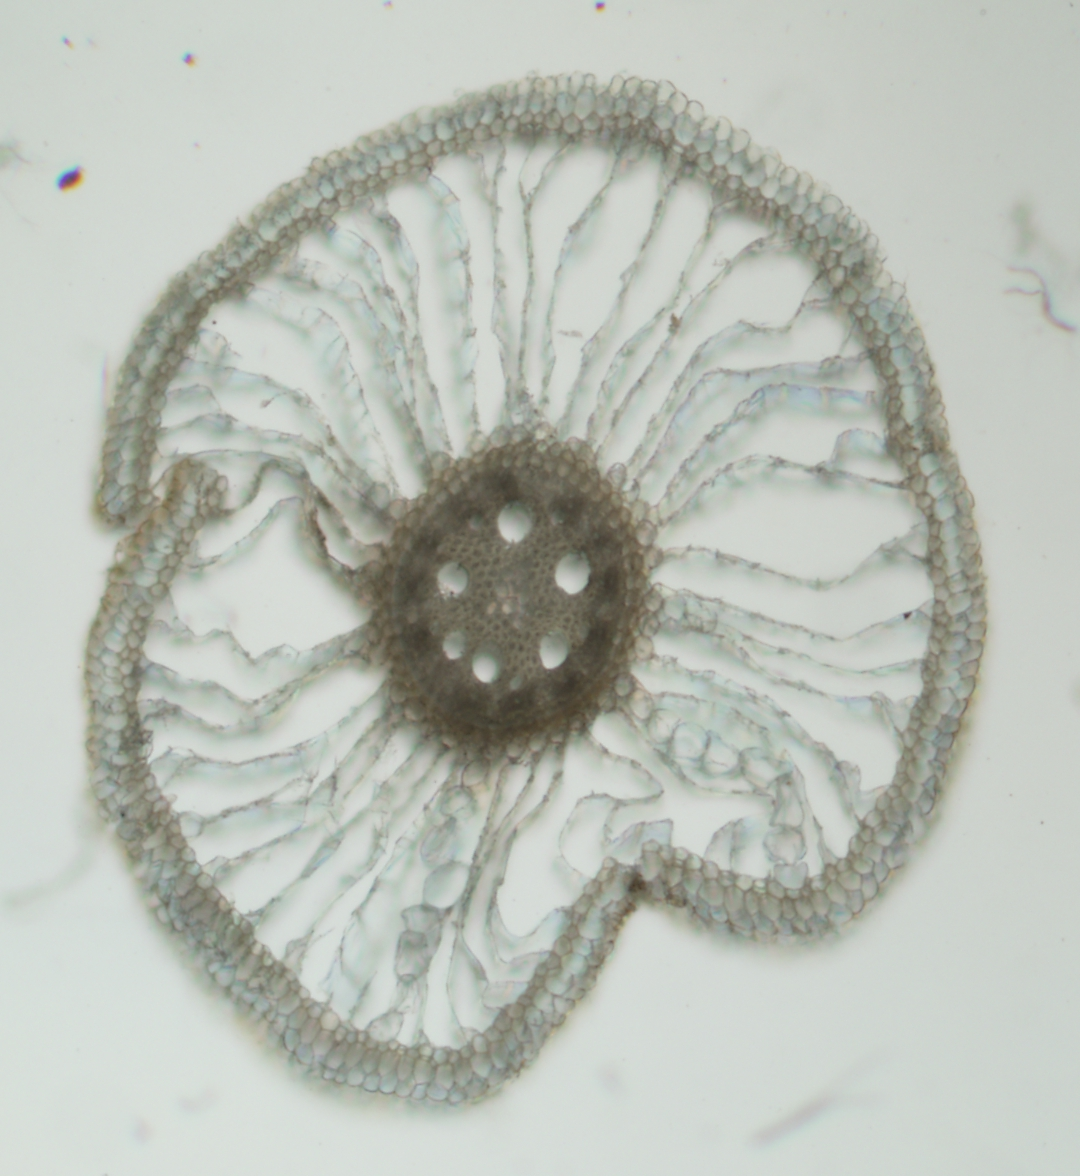lm: (497, 500, 534, 544), (555, 551, 590, 594), (539, 628, 571, 669), (437, 562, 469, 600), (472, 648, 501, 683), (442, 629, 468, 660)
